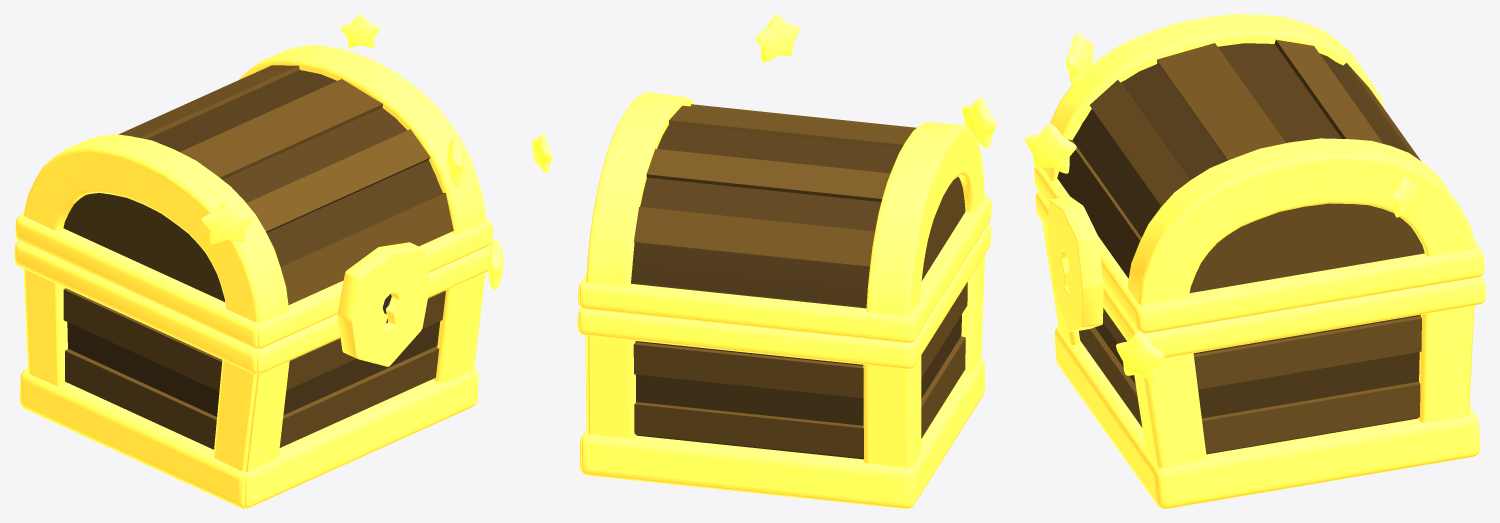
Rendered from antarcticachest1.glb.
3 renders of one model, left to right at view 1: azimuth 30°, elevation 25°; view 2: azimuth 150°, elevation 25°; view 3: azimuth 270°, elevation 25°, orthographic. The views are drawn at different scales.
Visible parts, largest first — view 1: Box004.002; view 2: Box004.002; view 3: Box004.002.
Boxes of the visible parts, left/top/right/bottom form: Box004.002: left=14, top=14, right=503, bottom=508; Box004.002: left=532, top=14, right=996, bottom=508; Box004.002: left=1025, top=14, right=1485, bottom=508.
Bounding box in the file's own units: 0.0197 × 0.0161 × 0.0191.
